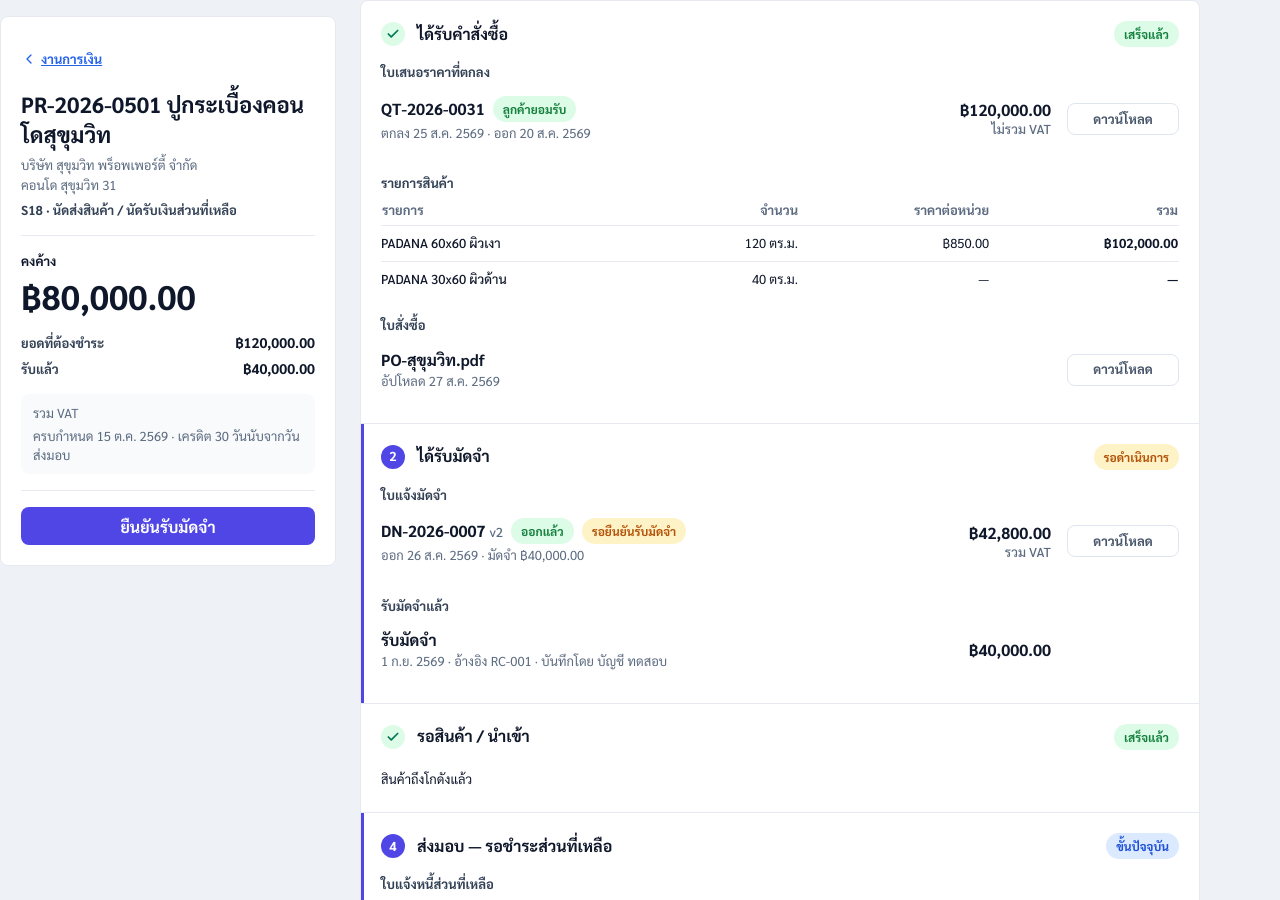
FinanceDealPage › money actions › DEPOSIT_PAID asks for an explicit confirmation, then posts and updates the view from the returned deal
Click the button "ยืนยันรับมัดจำ".
click(168, 526)  # box top-left (21, 507), bottom-right (315, 545)
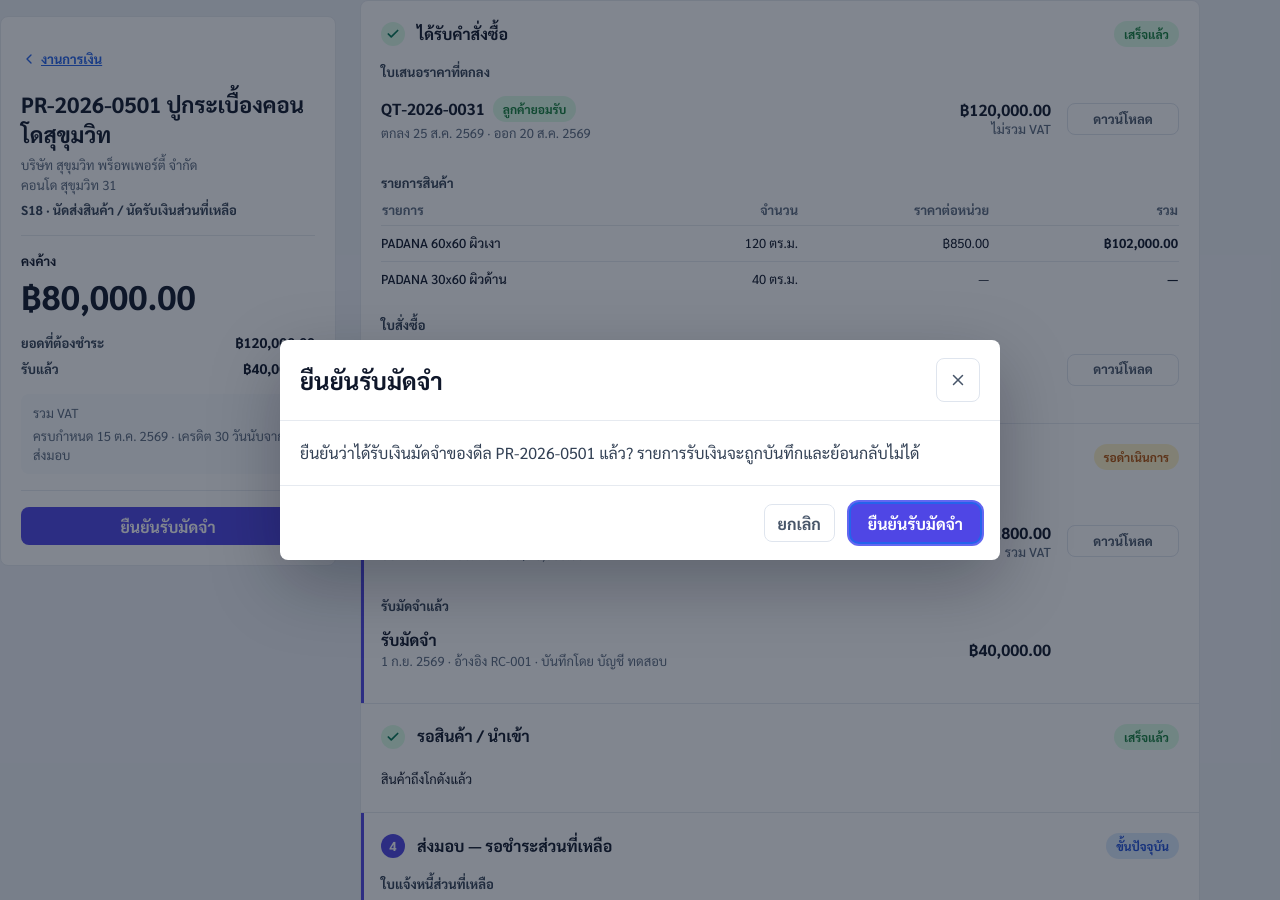
Click the button "ยืนยันรับมัดจำ".
click(915, 523)  # box top-left (851, 504), bottom-right (980, 542)
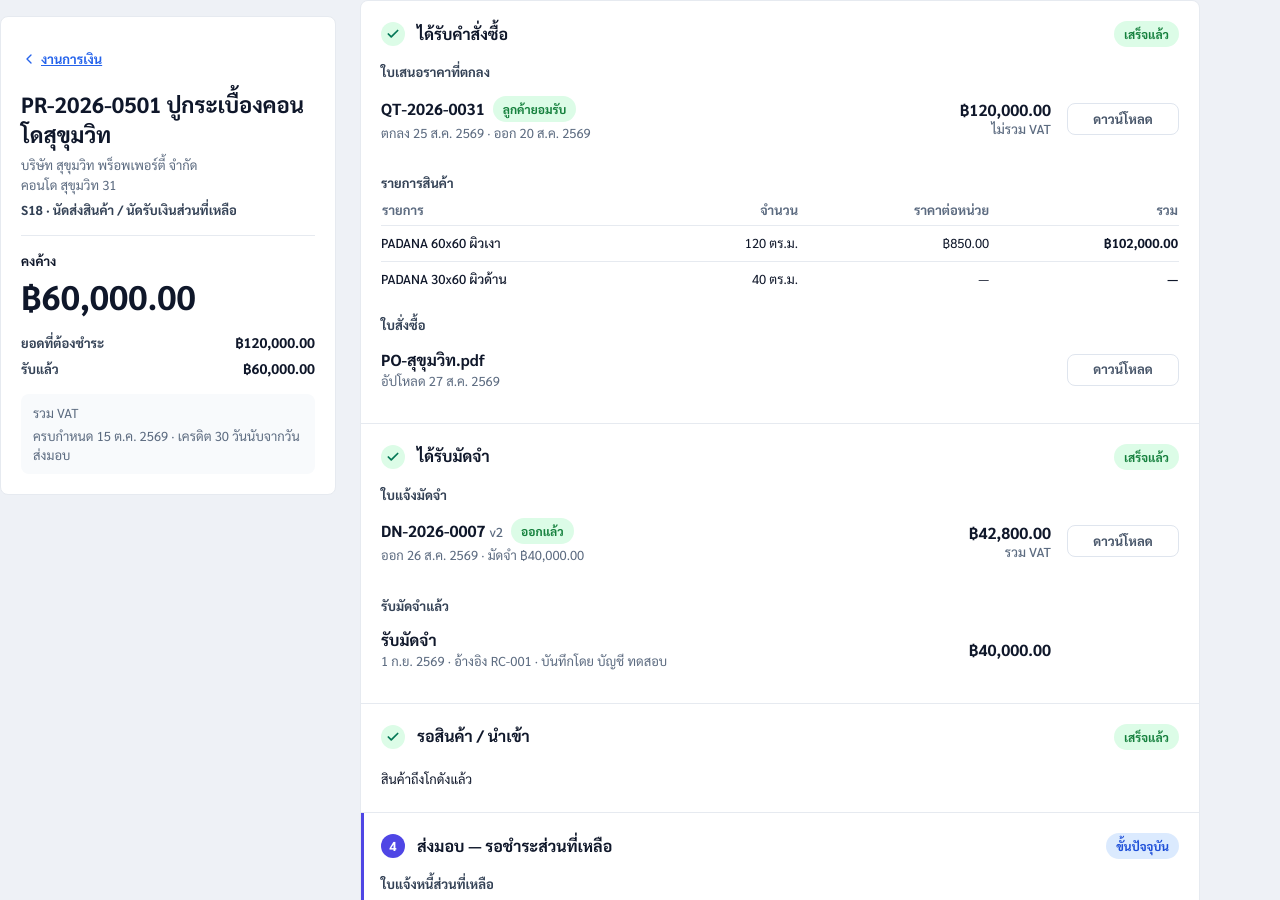
Expected: the text "฿60,000.00" is shown 2 times, top-left (21, 274), bottom-right (196, 318); top-left (243, 359), bottom-right (315, 377)
Now the dialog is gone
